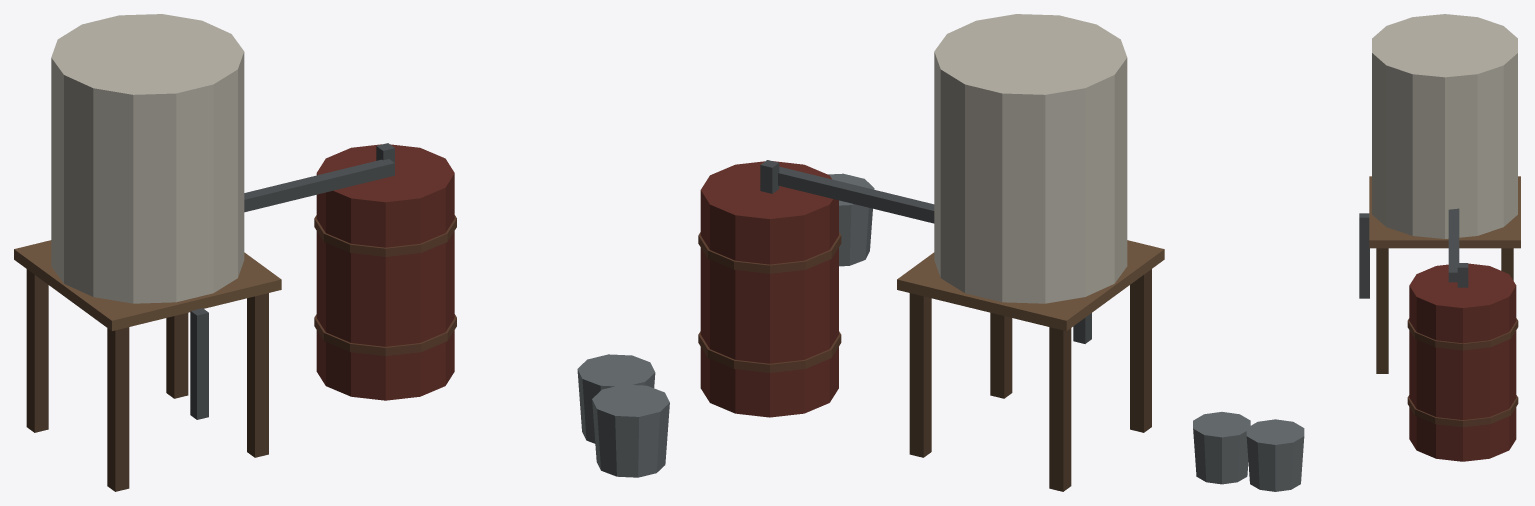
Rendered from room_water_2.glb.
3 views of the same model, side by side, from view 1: azimuth 30°, elevation 25°; view 2: azimuth 150°, elevation 25°; view 3: azimuth 270°, elevation 25° (orthographic). The views are drawn at different scales.
Parts seen in each view (by area): view 1: room_water_2; view 2: room_water_2; view 3: room_water_2.
Part boxes in pixels (x1=…): room_water_2: x1=14, y1=14, x2=669, y2=491; room_water_2: x1=698, y1=14, x2=1164, y2=491; room_water_2: x1=1193, y1=14, x2=1520, y2=491.
Bounding box in the file's own units: 2.39 × 1.85 × 1.84.
